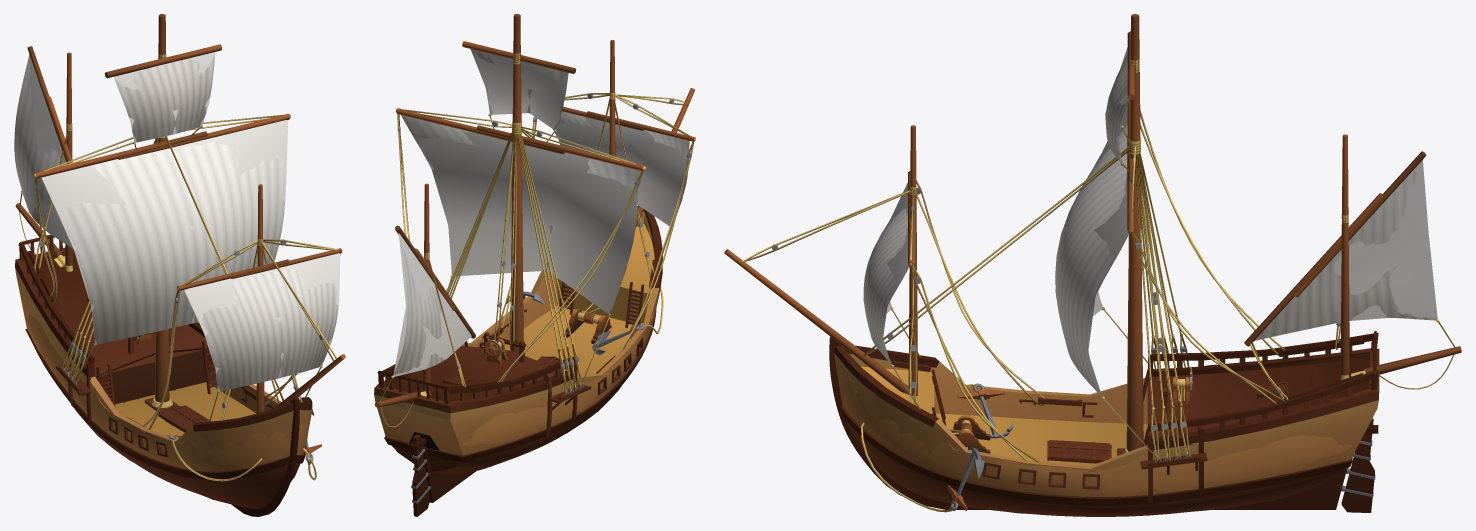
The model's file is Trader Ship.fbx.
The picture shows the model from 3 angles, left to right: view 1: azimuth 30°, elevation 25°; view 2: azimuth 150°, elevation 25°; view 3: azimuth 270°, elevation 25°; orthographic projection. The views are drawn at different scales.
Parts seen in each view (by area): view 1: Trader Ship high, Trader Ship very low, Trader Ship low; view 2: Trader Ship very low, Trader Ship high, Trader Ship low; view 3: Trader Ship high, Trader Ship very low, Trader Ship low.
Boxes of the visible parts, x1,y1,x2,y2 form: Trader Ship high: (14, 53, 341, 516); Trader Ship very low: (15, 52, 340, 509); Trader Ship low: (15, 14, 345, 413); Trader Ship very low: (374, 50, 689, 476); Trader Ship high: (375, 49, 695, 516); Trader Ship low: (374, 14, 695, 407); Trader Ship high: (741, 54, 1455, 516); Trader Ship very low: (833, 47, 1437, 513); Trader Ship low: (724, 14, 1461, 455).
Size of the model in its own units: 275 by 449 by 604.
Materials: 2 (2 with a texture image).
